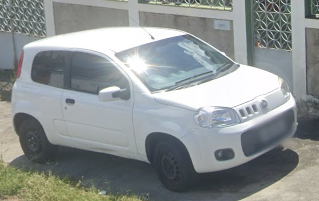car: (10, 26, 297, 192)
